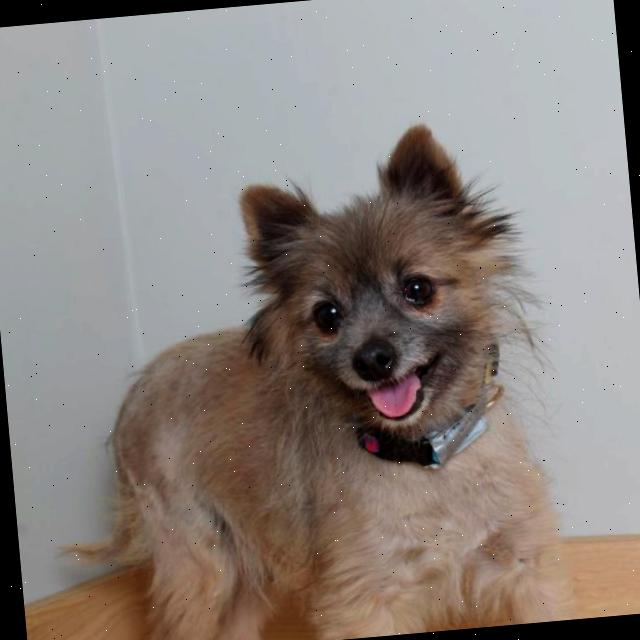pomeranian_dog: (200, 105, 552, 482)
